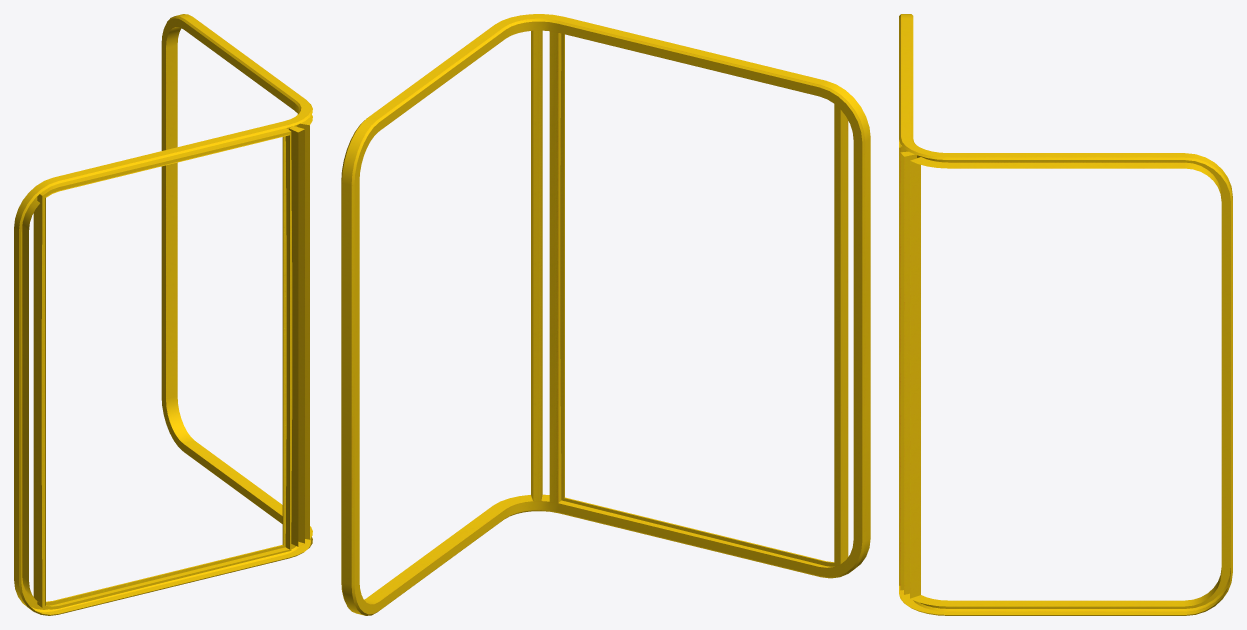
File: nt_2020_car_wash_frame_LOD0.obj
3 views of the same model, side by side, from view 1: azimuth 30°, elevation 25°; view 2: azimuth 150°, elevation 25°; view 3: azimuth 270°, elevation 25° (orthographic). The views are drawn at different scales.
Parts seen in each view (by area): view 1: metal_yellow_trim_01; view 2: metal_yellow_trim_01; view 3: metal_yellow_trim_01.
Boxes of the visible parts, x1,y1,x2,y2 form: metal_yellow_trim_01: (14,14,312,615); metal_yellow_trim_01: (341,14,870,615); metal_yellow_trim_01: (899,14,1232,615).
Bounding box in the file's own units: 386 × 515 × 340.
Materials: 1 (1 with a texture image).
